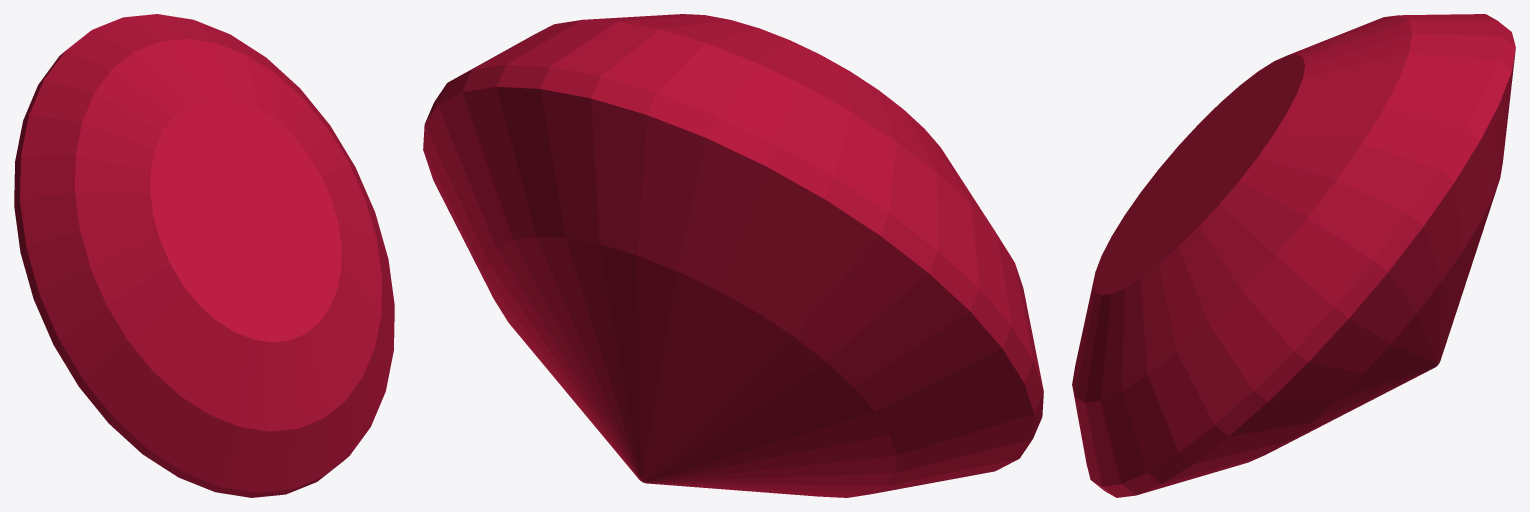
Rendered from ruby.glb.
The picture shows the model from 3 angles, left to right: view 1: azimuth 30°, elevation 25°; view 2: azimuth 150°, elevation 25°; view 3: azimuth 270°, elevation 25°; orthographic projection. The views are drawn at different scales.
Visible parts, largest first — view 1: ruby; view 2: ruby; view 3: ruby.
Boxes of the visible parts, left/top/right/bottom form: ruby: left=14, top=14, right=394, bottom=497; ruby: left=423, top=14, right=1043, bottom=497; ruby: left=1072, top=14, right=1515, bottom=497.
Size of the model in its own units: 1.75 by 1.79 by 1.63.
